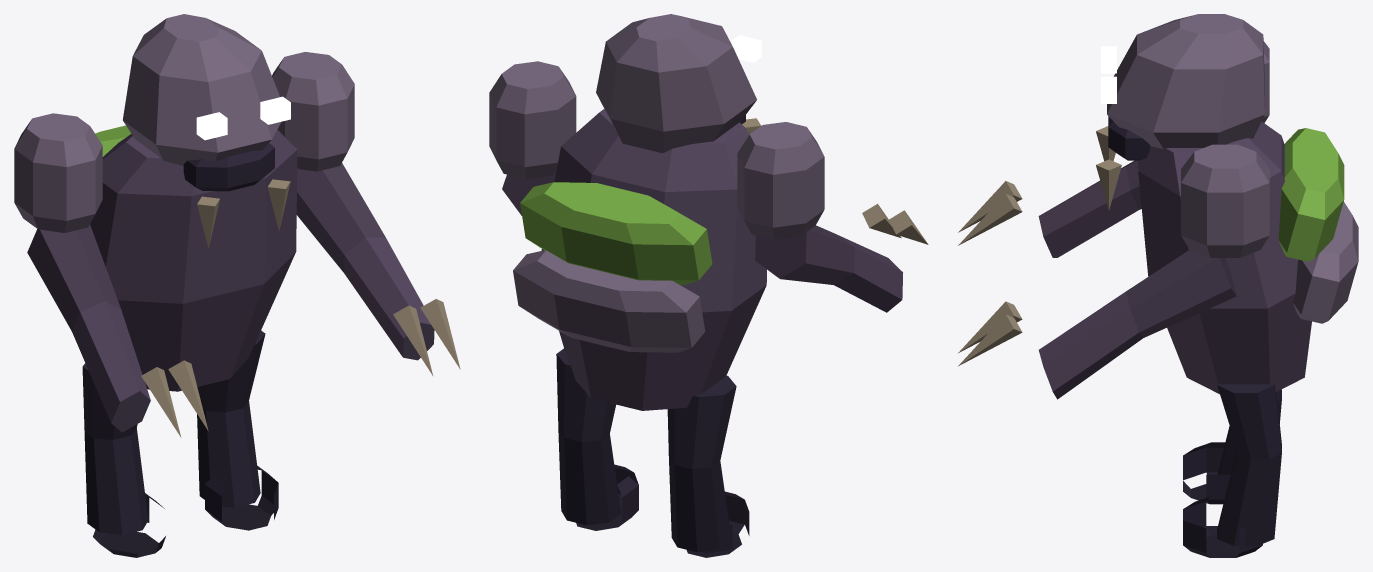
The model's file is enemy_walker.glb.
3 views of the same model, side by side, from view 1: azimuth 30°, elevation 25°; view 2: azimuth 150°, elevation 25°; view 3: azimuth 270°, elevation 25° (orthographic). The views are drawn at different scales.
Parts seen in each view (by area): view 1: body, arms, eyes; view 2: body, arms, eyes; view 3: body, arms, eyes.
Part boxes in pixels (x1,y1,x2,y2): body: (82, 14, 297, 557); arms: (14, 52, 460, 437); eyes: (196, 96, 290, 140); body: (513, 14, 766, 557); arms: (489, 61, 928, 312); eyes: (731, 35, 761, 62); body: (1096, 14, 1358, 557); arms: (958, 41, 1269, 399); eyes: (1101, 46, 1116, 103).
Size of the model in its own units: 0.6405 by 0.96 by 0.703.
